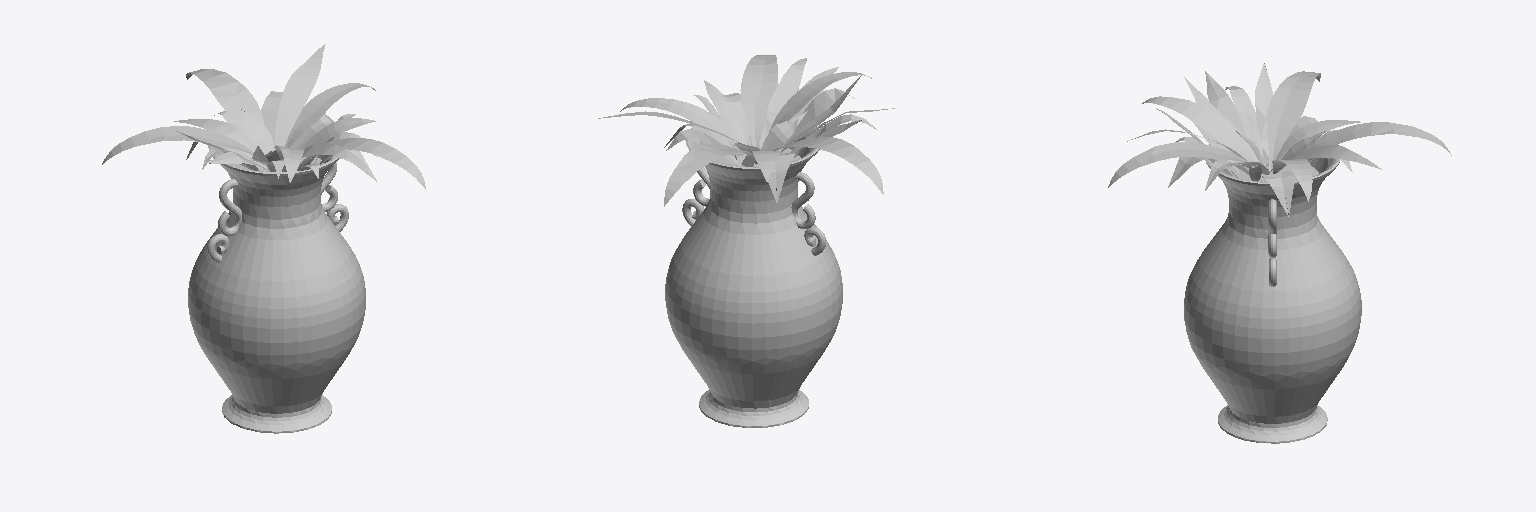
The model's file is potted_plant_obj.obj.
3 renders of one model, left to right at view 1: azimuth 30°, elevation 25°; view 2: azimuth 150°, elevation 25°; view 3: azimuth 270°, elevation 25°, orthographic.
Parts seen in each view (by area): view 1: pot_NurbsPath.001, leaves_Plane.011; view 2: pot_NurbsPath.001, leaves_Plane.011; view 3: pot_NurbsPath.001, leaves_Plane.011.
Part boxes in pixels (x1,y1,x2,y2): pot_NurbsPath.001: (188,143,365,433); leaves_Plane.011: (102,44,425,189); pot_NurbsPath.001: (665,120,842,427); leaves_Plane.011: (598,55,894,206); pot_NurbsPath.001: (1184,135,1361,443); leaves_Plane.011: (1108,63,1451,216).
Size of the model in its own units: 28.98 by 32.36 by 31.99.